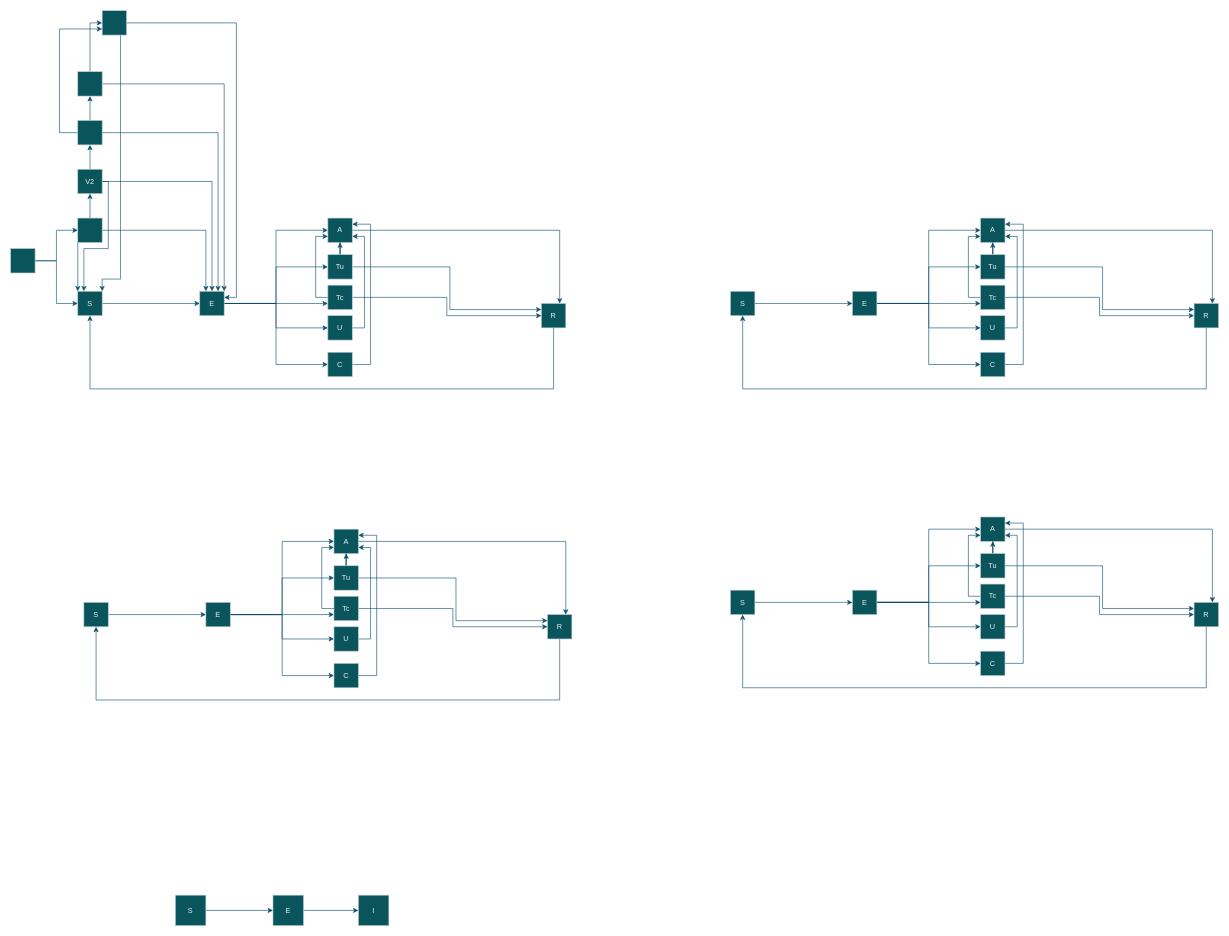
Image size: 1229x936. Some labels were removed from this diagram. Here are the shapes that lost their labels. From the top down, the box of each, then its label:
(102, 10, 127, 35): V*
(77, 71, 102, 96): V4
(77, 120, 102, 145): V3
(77, 217, 102, 242): V1
(10, 248, 35, 273): It
